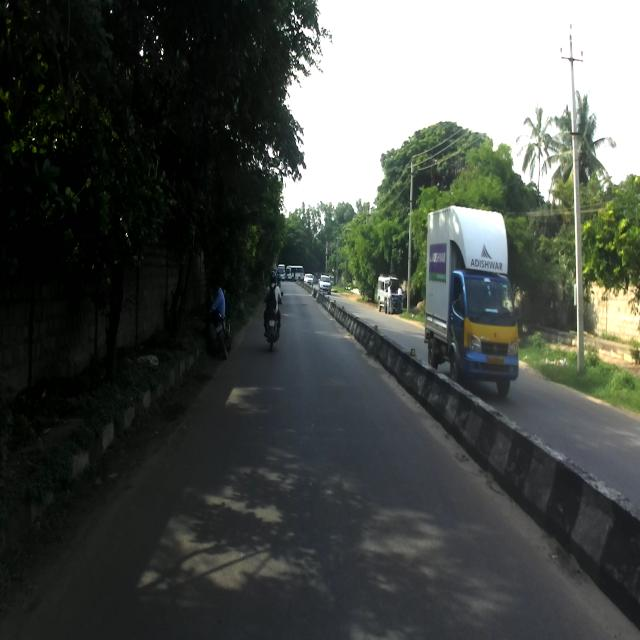truck ahead at: (414, 204, 522, 392)
